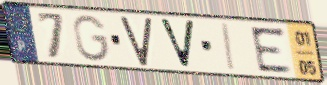7: (35, 11, 67, 61)
E: (247, 25, 295, 74)
G: (71, 13, 113, 64)
I: (221, 21, 238, 73)
V: (157, 17, 198, 71), (118, 16, 154, 68)
